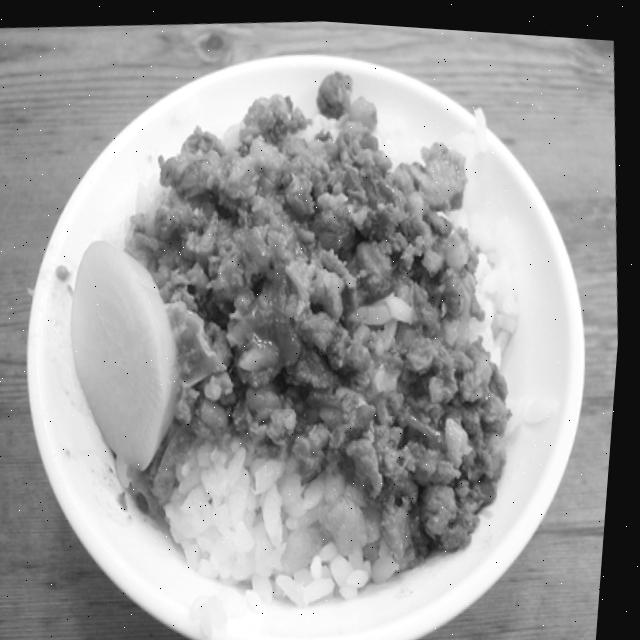猪肉菜式: (0, 7, 640, 640)
